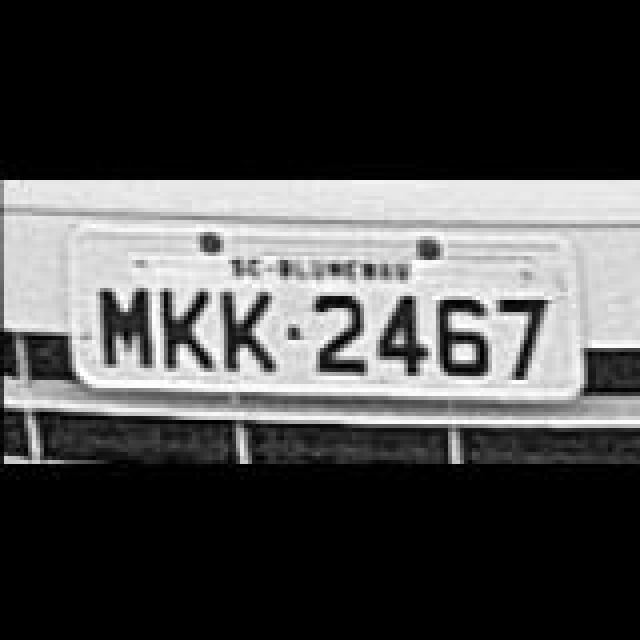2: (310, 292, 366, 372)
4: (382, 292, 430, 372)
6: (438, 296, 494, 376)
7: (498, 294, 554, 378)
K: (222, 286, 278, 370), (162, 286, 218, 370)
M: (100, 282, 152, 366)
